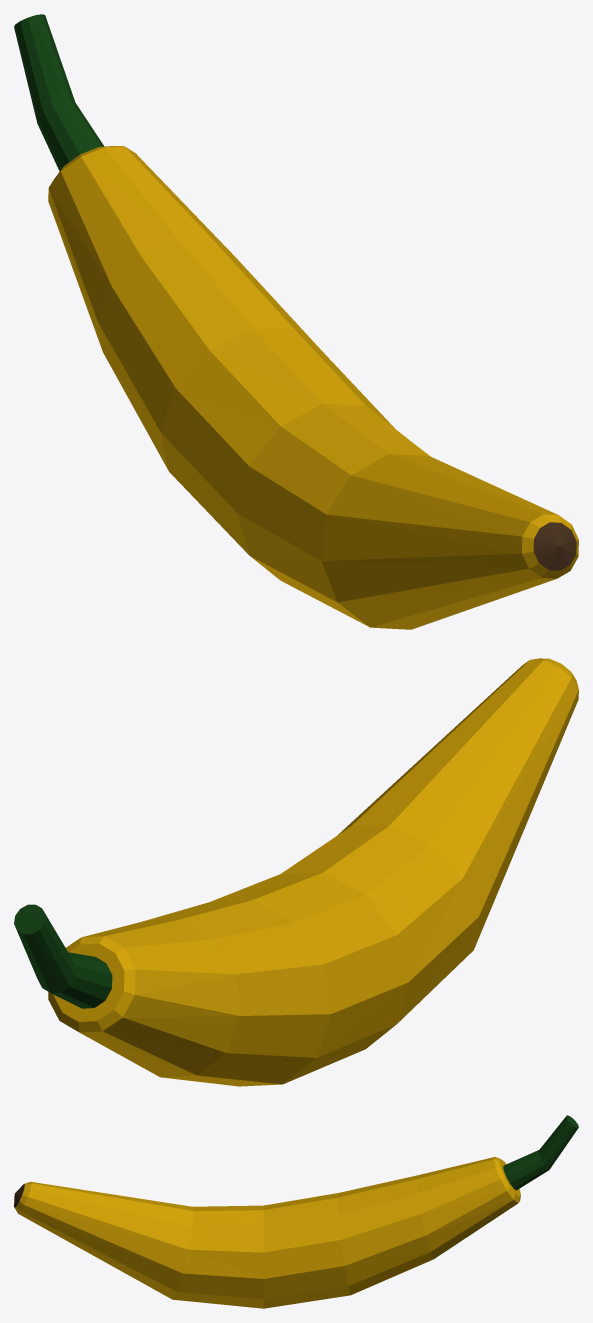
The model's file is banana.fbx.
The picture shows the model from 3 angles, top to bottom: view 1: azimuth 30°, elevation 25°; view 2: azimuth 150°, elevation 25°; view 3: azimuth 270°, elevation 25°; orthographic projection. The views are drawn at different scales.
Parts seen in each view (by area): view 1: Banana_Full; view 2: Banana_Full; view 3: Banana_Full.
Boxes of the visible parts, x1=… form: Banana_Full: x1=14, y1=14, x2=578, y2=629; Banana_Full: x1=14, y1=658, x2=578, y2=1086; Banana_Full: x1=14, y1=1115, x2=578, y2=1308.
Size of the model in its own units: 68.85 by 138 by 376.
